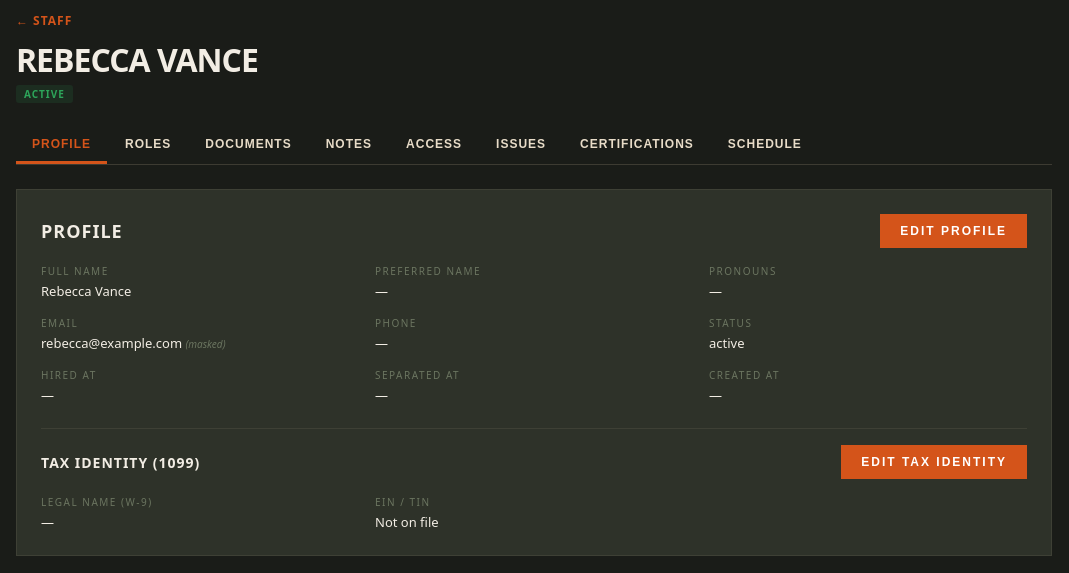
Test case: AdminStaffDetail — certification actions › offers nothing on an already-revoked certification
The image size is (1069, 573).
Expected: the heading "Rebecca Vance" is shown, [16, 38, 258, 81]
Click the button "Certifications": (637, 146) [564, 127, 710, 164]
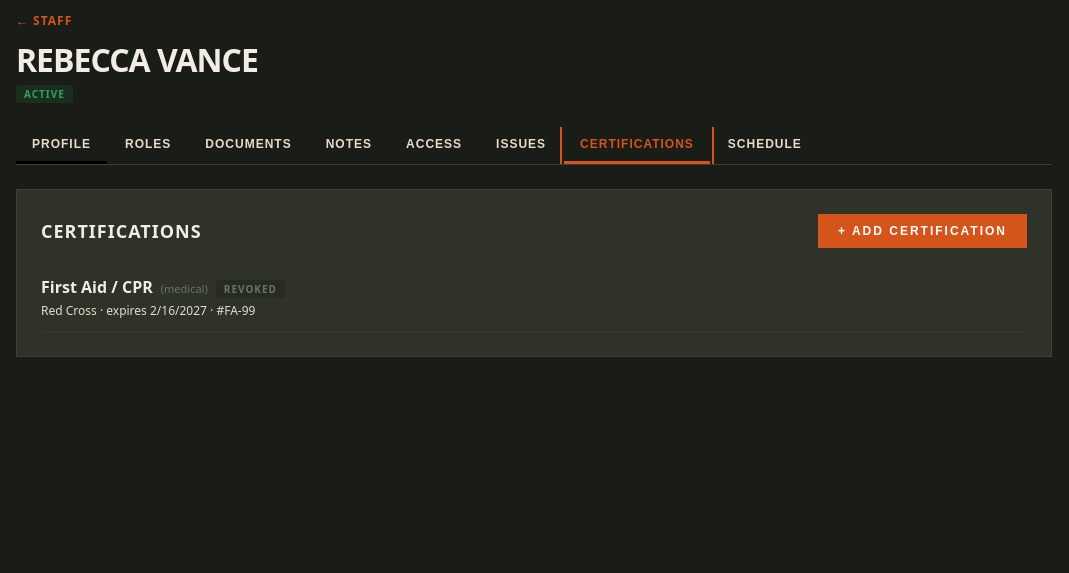
Result: the text "First Aid / CPR" is shown at [41, 276, 153, 298]
